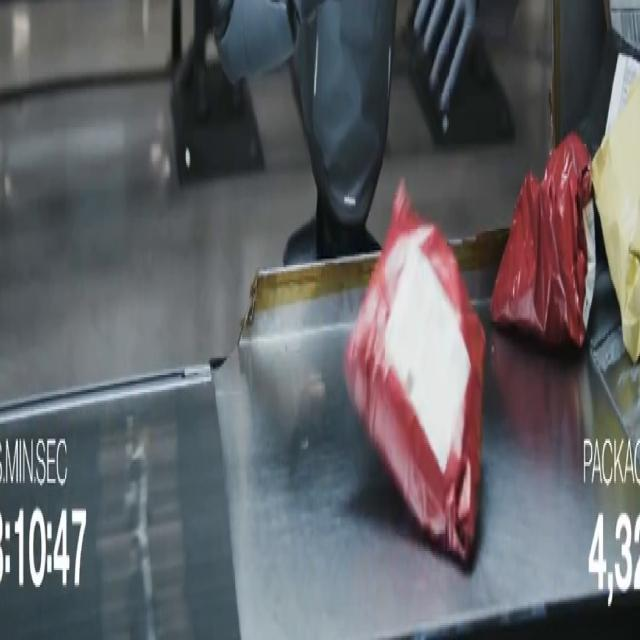package: (345, 183, 485, 563), (491, 134, 596, 347), (592, 79, 639, 362), (606, 0, 639, 48)
